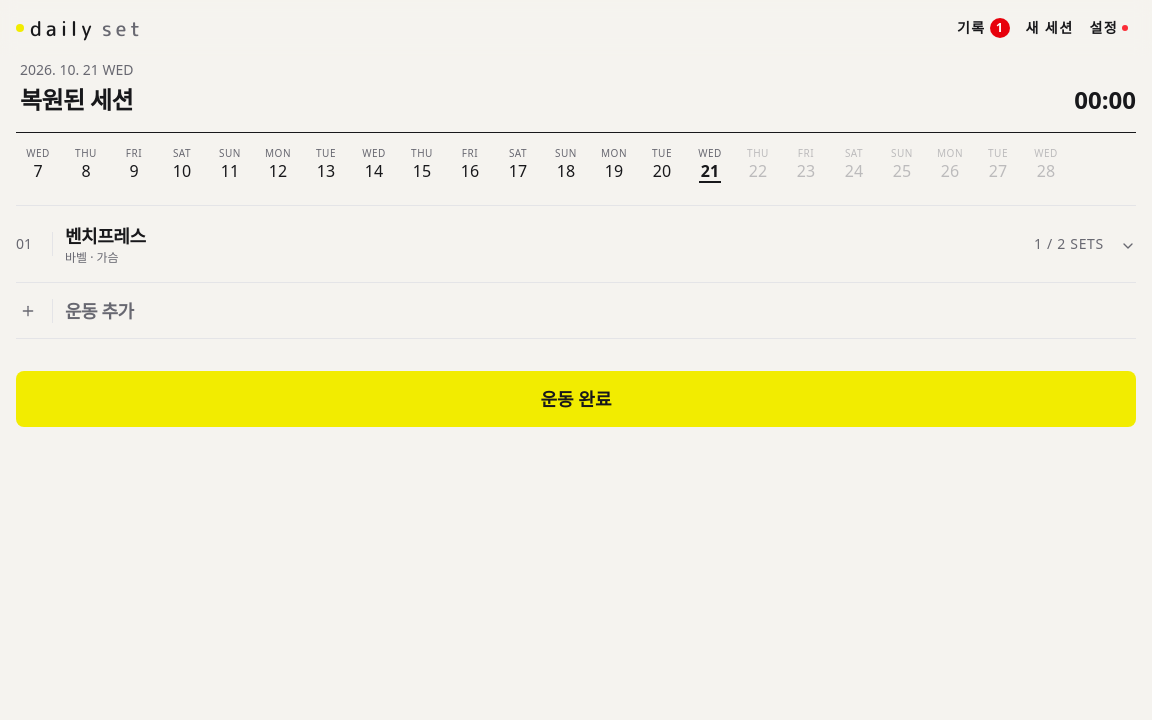
Test: RootClient — 기록(History) › Notion에 보내지 못한 세션이 있으면 기록 버튼에 건수가 표시되고 다시 보내기가 보인다
Expected: the button "운동 완료" is shown, [16, 371, 1136, 427]
Click the button "기록 1". click: (983, 28)
box: [949, 6, 1018, 50]
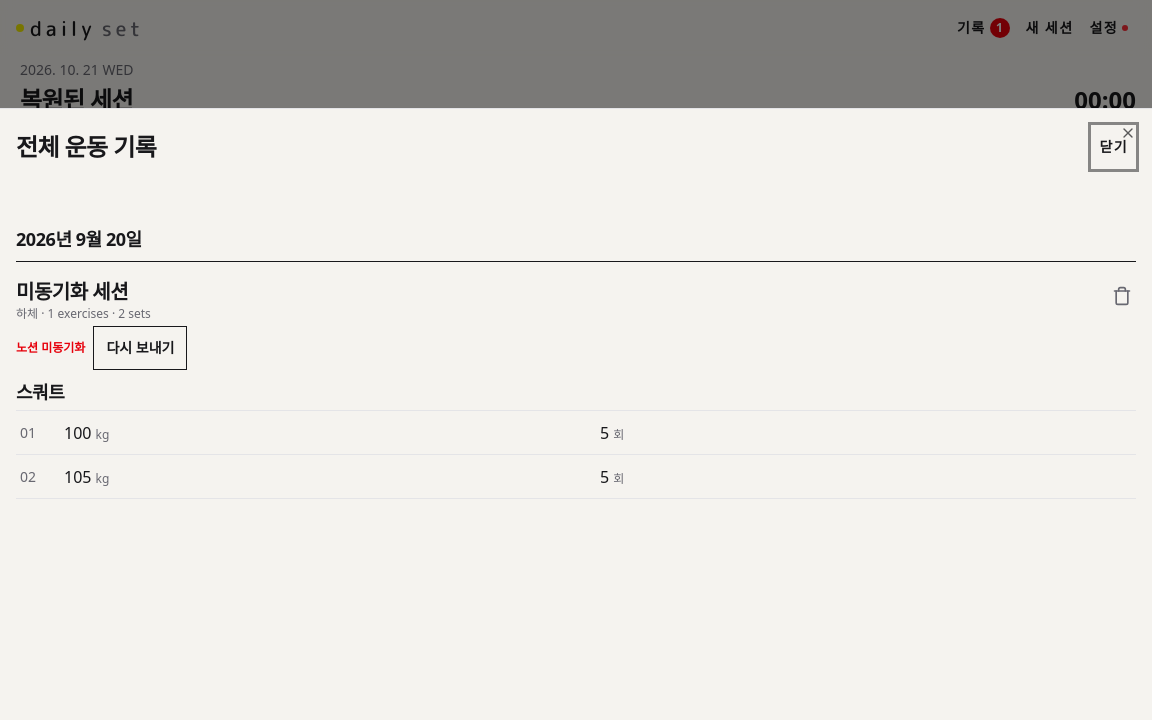
Expected: the text "노션 미동기화" is shown, [16, 340, 85, 356]
Expected: the button "다시 보내기" is shown, [93, 326, 187, 370]
